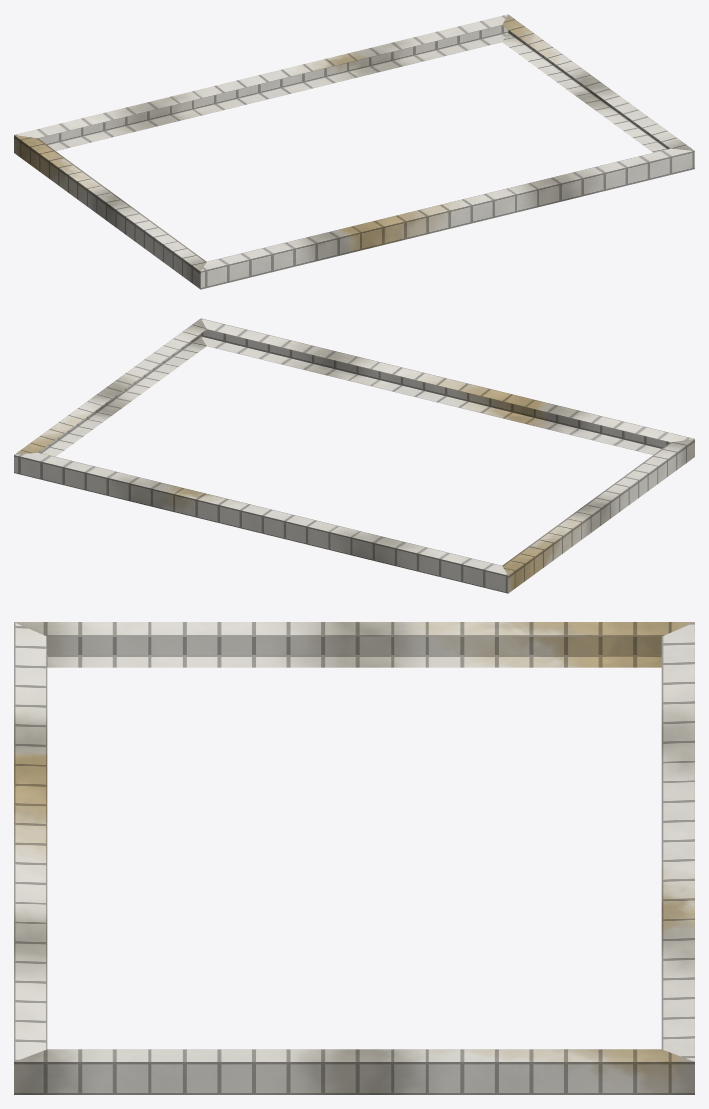
File: TesteiraCasaLado 1.fbx
3 views of the same model, one above another, from view 1: azimuth 30°, elevation 25°; view 2: azimuth 150°, elevation 25°; view 3: azimuth 270°, elevation 25° (orthographic). The views are drawn at different scales.
Visible parts, largest first — view 1: TesteiraCasaLado; view 2: TesteiraCasaLado; view 3: TesteiraCasaLado.
Part boxes in pixels (x1=…): TesteiraCasaLado: x1=14, y1=14, x2=694, y2=289; TesteiraCasaLado: x1=14, y1=318, x2=694, y2=593; TesteiraCasaLado: x1=14, y1=622, x2=694, y2=1094.
Bounding box in the file's own units: 1462 × 51.06 × 957.
